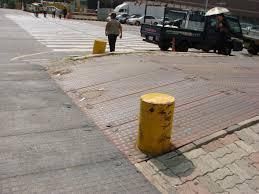Animal: (139, 97, 177, 145), (85, 41, 109, 60)
